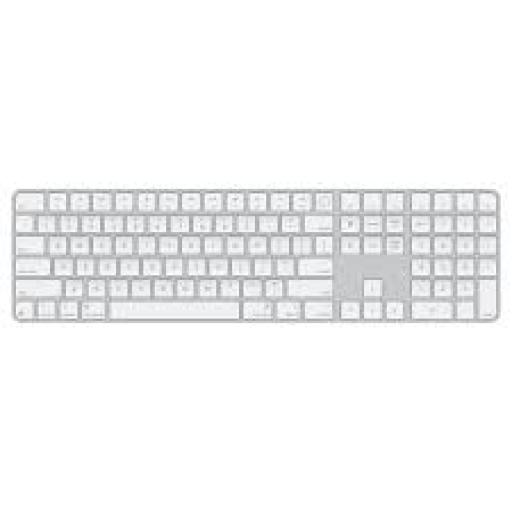keyboard: (11, 189, 498, 321)
